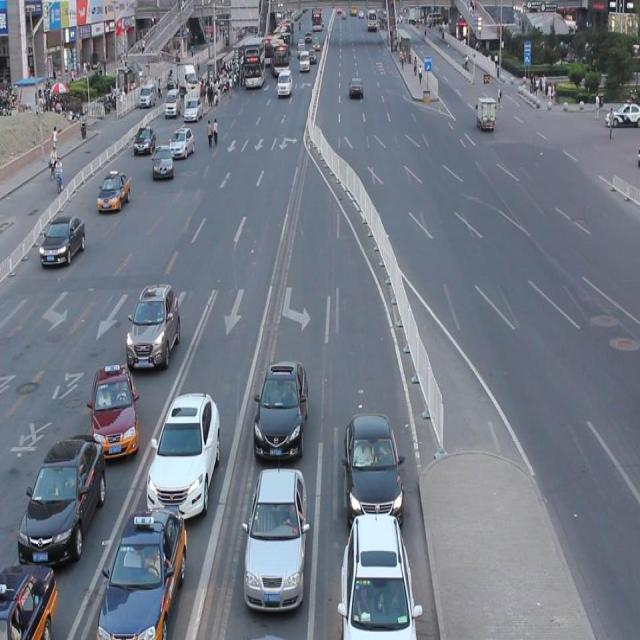car: (92, 501, 188, 640), (17, 431, 106, 568), (339, 508, 419, 640), (146, 388, 220, 521), (242, 463, 306, 611), (343, 408, 403, 527), (252, 357, 308, 460), (89, 361, 140, 460), (124, 279, 180, 369), (1, 558, 57, 640), (39, 212, 86, 268), (97, 169, 131, 214), (152, 142, 174, 182)
